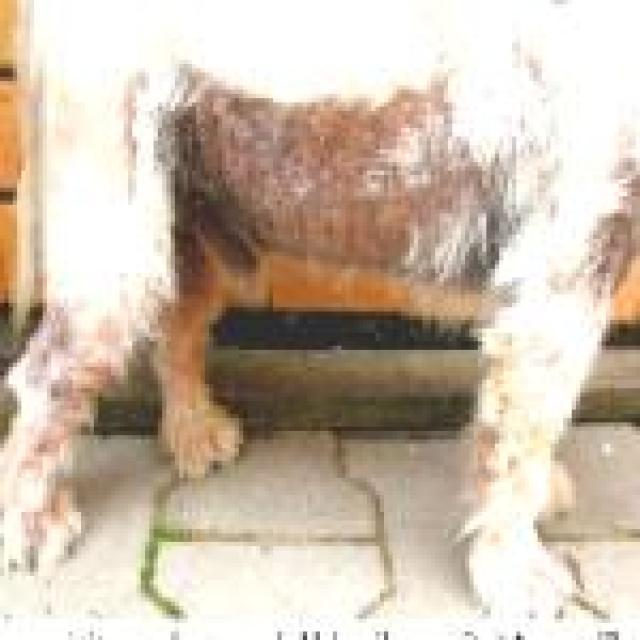fungal infection: (171, 82, 458, 246), (21, 320, 115, 528), (576, 164, 640, 292), (467, 411, 547, 498)
